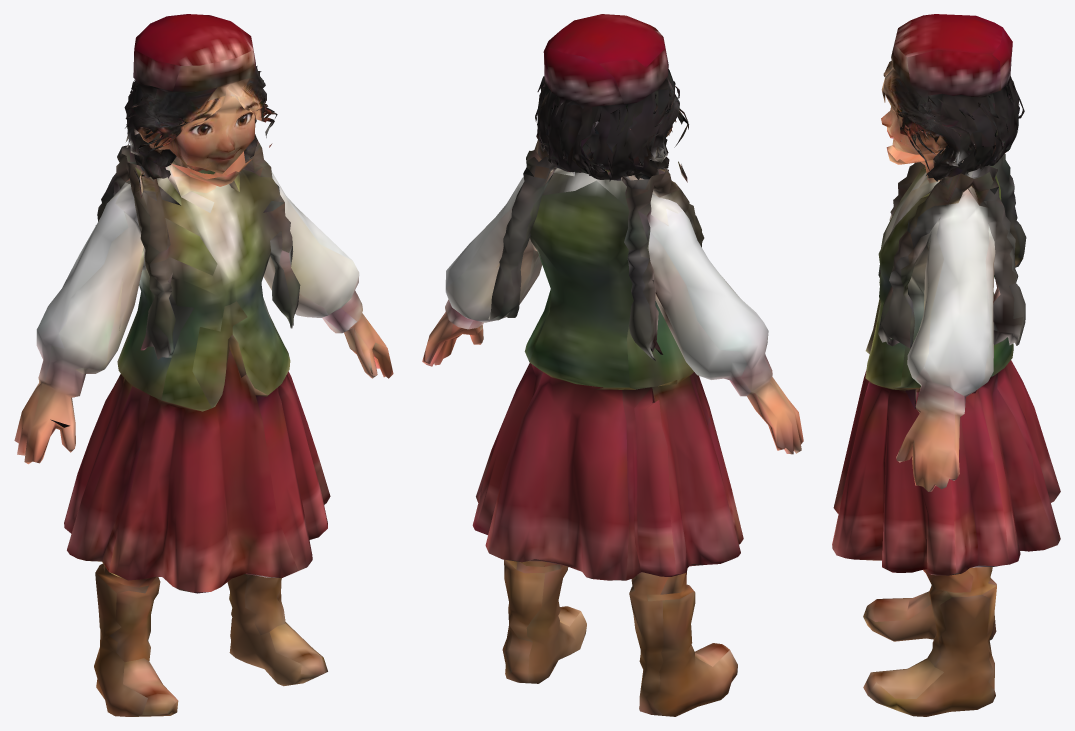
The model's file is child.gen.phone.glb.
3 views of the same model, side by side, from view 1: azimuth 30°, elevation 25°; view 2: azimuth 150°, elevation 25°; view 3: azimuth 270°, elevation 25° (orthographic). The views are drawn at different scales.
Visible parts, largest first — view 1: child.raw; view 2: child.raw; view 3: child.raw.
Part boxes in pixels (bbox=[...]): child.raw: bbox=[14, 14, 393, 716]; child.raw: bbox=[422, 14, 803, 716]; child.raw: bbox=[832, 14, 1060, 716].
Size of the model in its own units: 0.6729 by 1.15 by 0.3693.
1 material, 1 textured.
